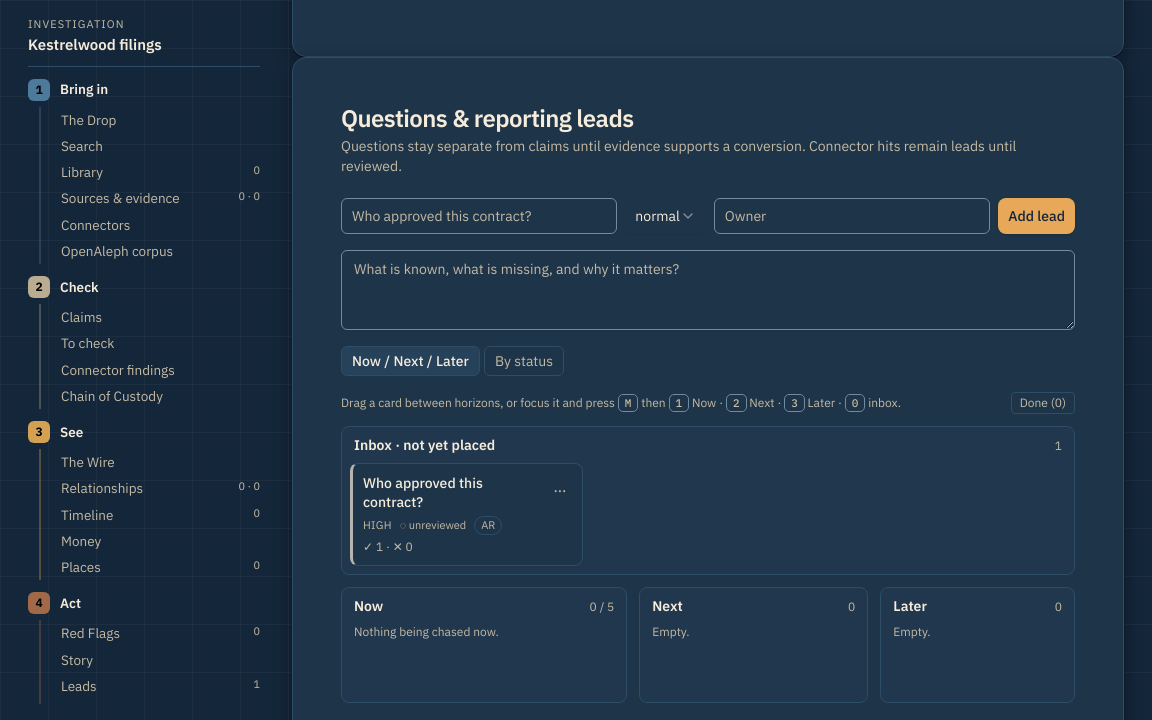
Home questions & reporting leads › renders a queued lead with its triage state
(page scrolled)
Expected: the text "Who approved this contract?" is shown, top-left (363, 474), bottom-right (483, 511)
Click the button "By status" at (524, 361), box top-left (484, 346), bottom-right (564, 376)
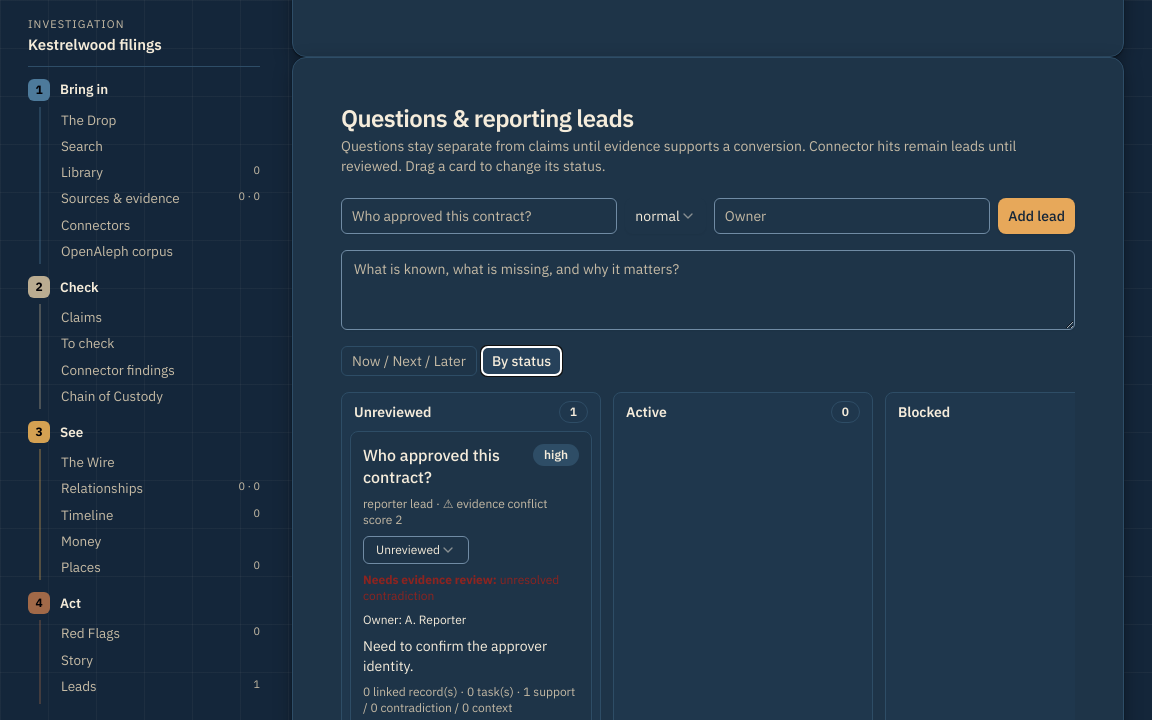
Result: the text "Needs evidence review:" is shown at top-left (363, 572), bottom-right (497, 587)
Result: the text "unresolved contradiction" is shown at top-left (363, 572), bottom-right (559, 603)
Result: the text "Owner: A. Reporter" is shown at top-left (363, 612), bottom-right (466, 627)
